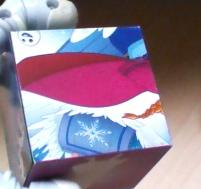Red1: (9, 27, 172, 163)
